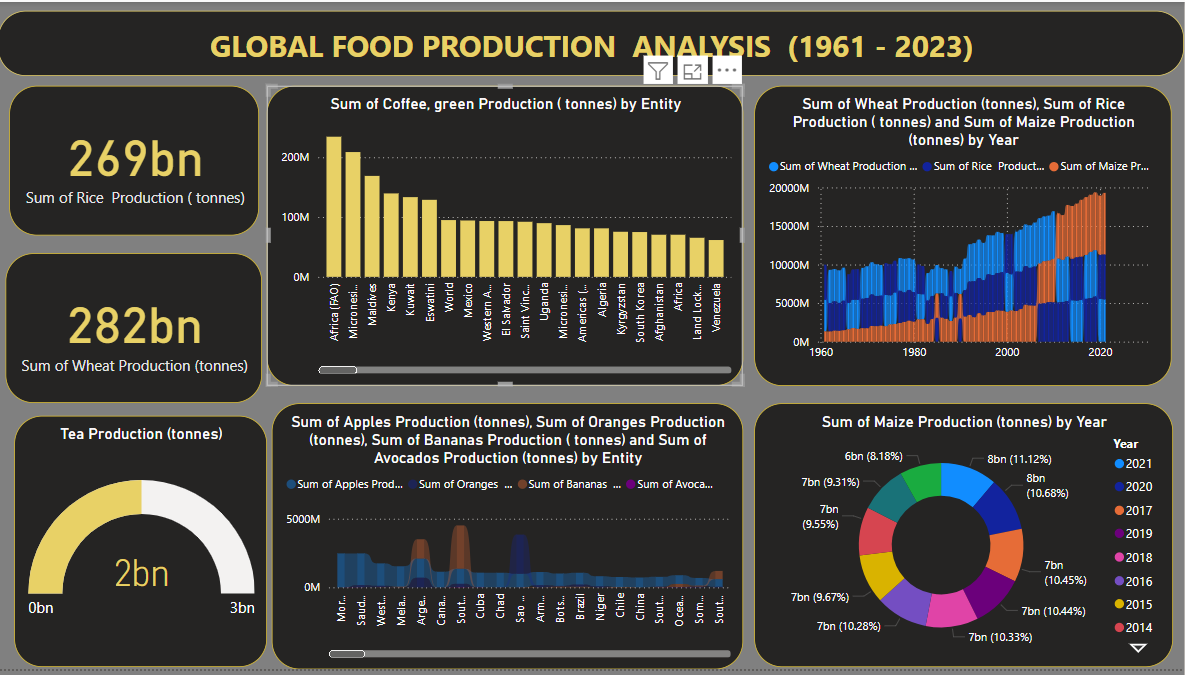

This screenshot's page, from the dashboard's own definition file:
{"tool":"powerbi","page":{"name":"Page 1","canvas":[1280,720],"ordinal":0},"visuals":[{"type":"card","fields":{"Values":["Sum(world food production.Rice  Production ( tonnes))"]},"box":[12.1,90.4,269.8,161.9],"z":0},{"type":"card","fields":{"Values":["Sum(world food production.Wheat Production (tonnes))"]},"box":[8.1,271.2,276.6,161.9],"z":1},{"type":"gauge","title":"Tea  Production (tonnes)","fields":{"Y":["Sum(world food production.Tea  Production ( tonnes ))"]},"box":[17.5,446.5,272.5,271.2],"z":2},{"type":"clusteredColumnChart","fields":{"Category":["world food production.Entity"],"Y":["Sum(world food production.Coffee, green Production ( tonnes))"]},"box":[289.5,90.6,514.6,323.8],"z":3},{"type":"ribbonChart","fields":{"Category":["world food production.Year"],"Y":["Sum(world food production.Wheat Production (tonnes))","Sum(world food production.Rice  Production ( tonnes))","Sum(world food production.Maize Production (tonnes))"]},"box":[816.2,90.4,450.6,323.8],"z":4},{"type":"ribbonChart","fields":{"Category":["world food production.Entity"],"Y":["Sum(world food production.Apples Production (tonnes))","Sum(world food production.Oranges  Production (tonnes))","Sum(world food production.Bananas  Production ( tonnes))","Sum(world food production.Avocados Production (tonnes))"]},"box":[295.4,433.1,508.6,287.4],"z":5},{"type":"donutChart","fields":{"Category":["world food production.Year"],"Y":["Sum(world food production.Maize Production (tonnes))"]},"box":[816.2,433.1,451.9,284.7],"z":6},{"type":"textbox","box":[0,9.4,1280.3,70.2],"z":7}]}

Visuals, with their boxes in screenshot pixels (x1, y1, x2, y2), scaled from the page's 1280x720 canvas onto the 1185x675 screenshot:
card - Sum(world food production.Rice  Production ( tonnes)): <bbox>11, 85, 261, 237</bbox>
card - Sum(world food production.Wheat Production (tonnes)): <bbox>7, 254, 264, 406</bbox>
"Tea  Production (tonnes)" gauge: <bbox>16, 419, 268, 673</bbox>
clusteredColumnChart - world food production.Entity x Sum(world food production.Coffee, green Production ( tonnes)): <bbox>268, 85, 744, 388</bbox>
ribbonChart - world food production.Year x Sum(world food production.Wheat Production (tonnes)): <bbox>756, 85, 1173, 388</bbox>
ribbonChart - world food production.Entity x Sum(world food production.Apples Production (tonnes)): <bbox>273, 406, 744, 674</bbox>
donutChart - world food production.Year x Sum(world food production.Maize Production (tonnes)): <bbox>756, 406, 1174, 673</bbox>
textbox: <bbox>0, 9, 1184, 75</bbox>
